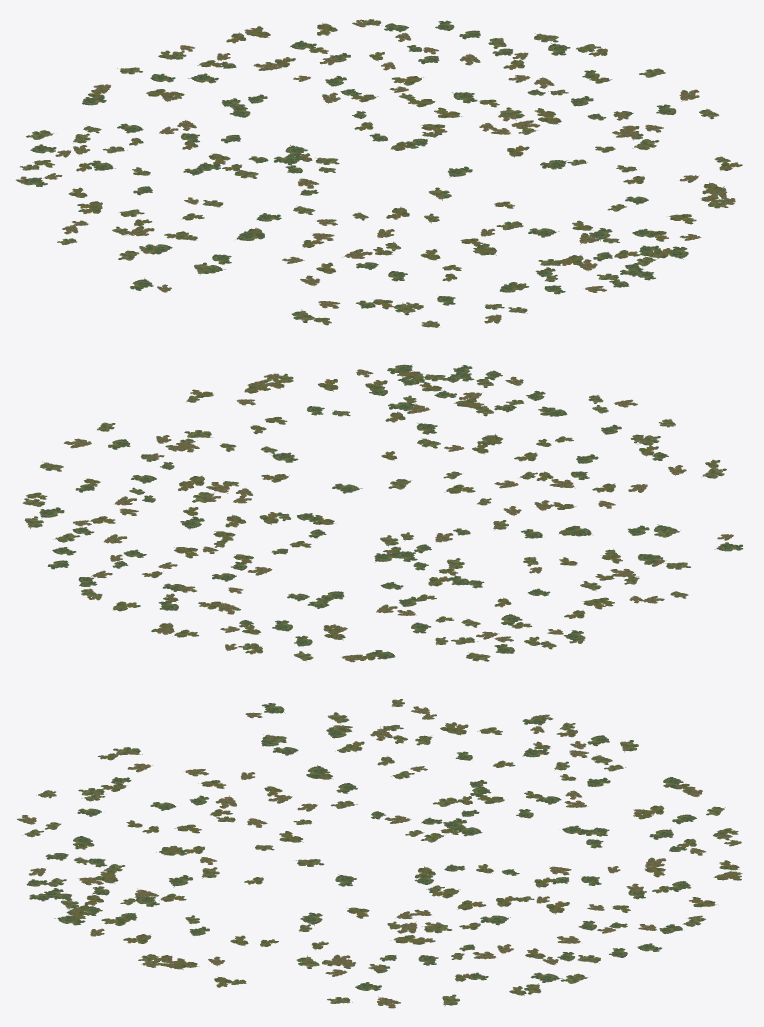
File: aulne_adulte_c.fbx
3 views of the same model, one above another, from view 1: azimuth 30°, elevation 25°; view 2: azimuth 150°, elevation 25°; view 3: azimuth 270°, elevation 25° (orthographic).
Parts seen in each view (by area): view 1: aulne_adulte_c_feuilles_sol; view 2: aulne_adulte_c_feuilles_sol; view 3: aulne_adulte_c_feuilles_sol.
Part boxes in pixels (bbox=[...]): aulne_adulte_c_feuilles_sol: bbox=[15, 19, 742, 327]; aulne_adulte_c_feuilles_sol: bbox=[22, 364, 743, 662]; aulne_adulte_c_feuilles_sol: bbox=[17, 699, 742, 1008].
Size of what is drawn, in the model's own units: 9.82 by 0.00598 by 9.66.
